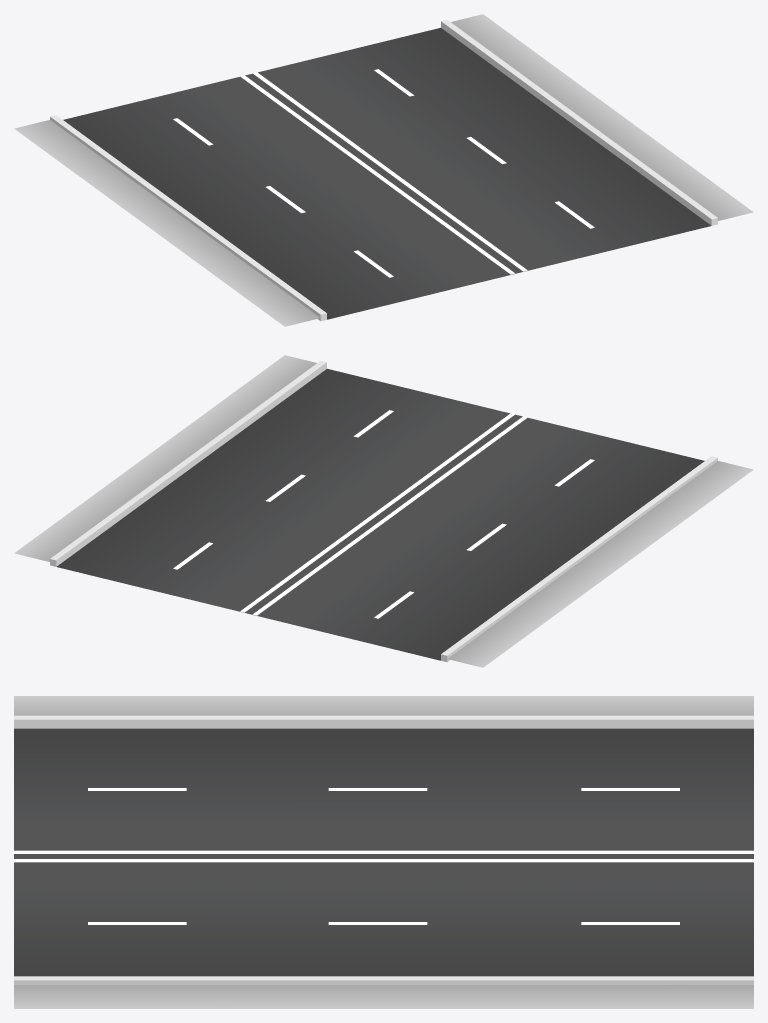
File: road_001.glb
The picture shows the model from 3 angles, top to bottom: view 1: azimuth 30°, elevation 25°; view 2: azimuth 150°, elevation 25°; view 3: azimuth 270°, elevation 25°; orthographic projection. The views are drawn at different scales.
Parts seen in each view (by area): view 1: road_001; view 2: road_001; view 3: road_001.
Boxes of the visible parts, left/top/right/bottom form: road_001: left=14, top=14, right=753, bottom=326; road_001: left=14, top=355, right=753, bottom=667; road_001: left=14, top=696, right=753, bottom=1008.
Size of the model in its own units: 15 by 0.2 by 15.
Materials: 1 (1 with a texture image).
